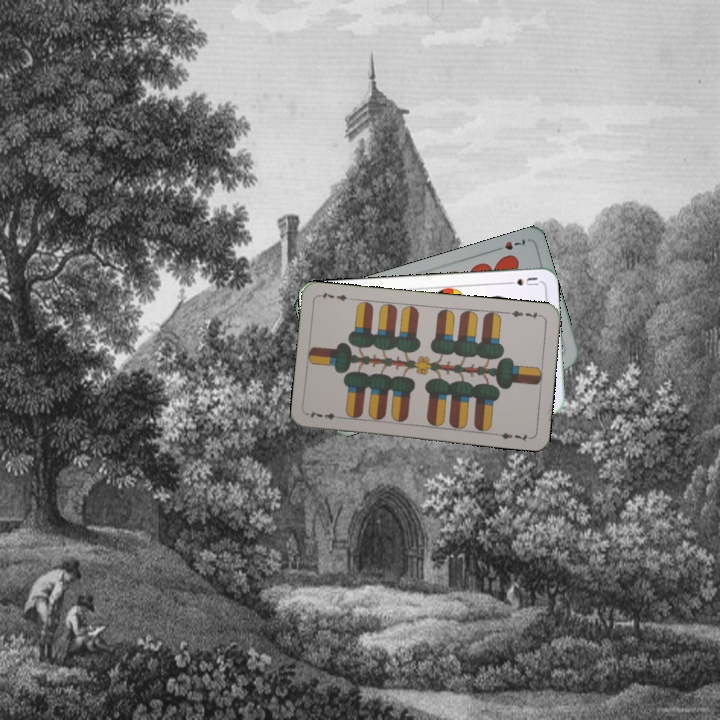E7: (504, 306, 544, 322), (305, 407, 346, 422)
H7: (490, 235, 528, 254)
SU: (501, 273, 541, 290)
